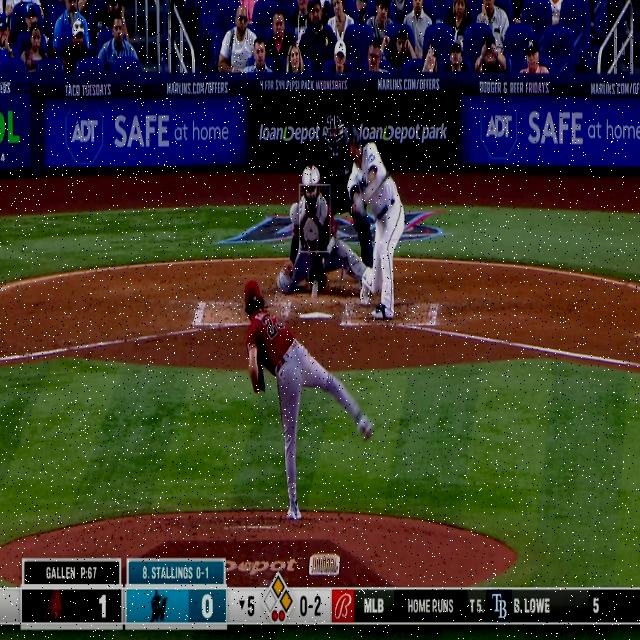baseball: (310, 279, 320, 301)
